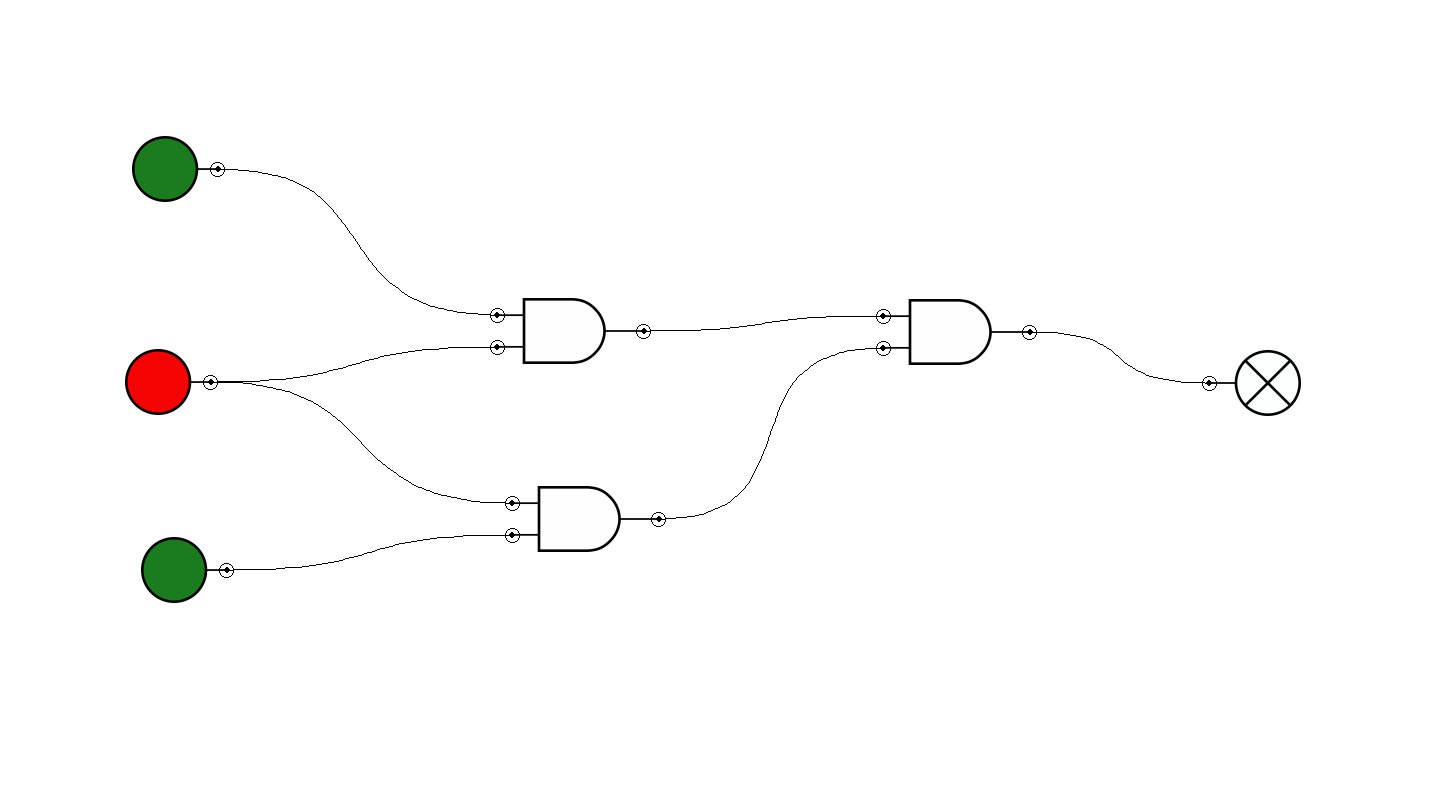and: (490, 298, 651, 364), (876, 299, 1037, 365), (505, 486, 666, 552)
bulb: (1202, 350, 1301, 416)
switch_False: (125, 349, 218, 415)
switch_True: (132, 136, 225, 202), (141, 537, 234, 603)
